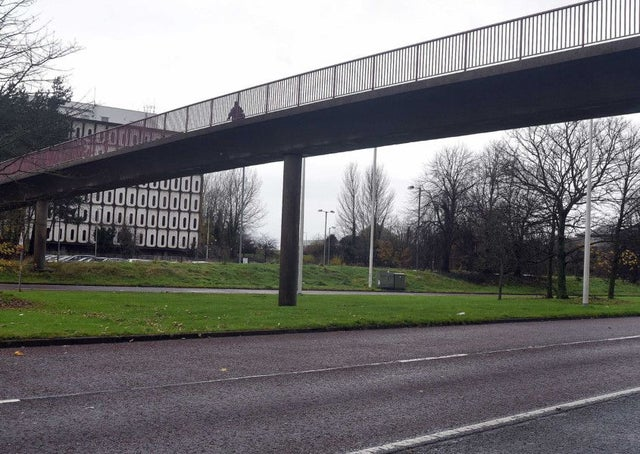bridge: (1, 1, 638, 209)
